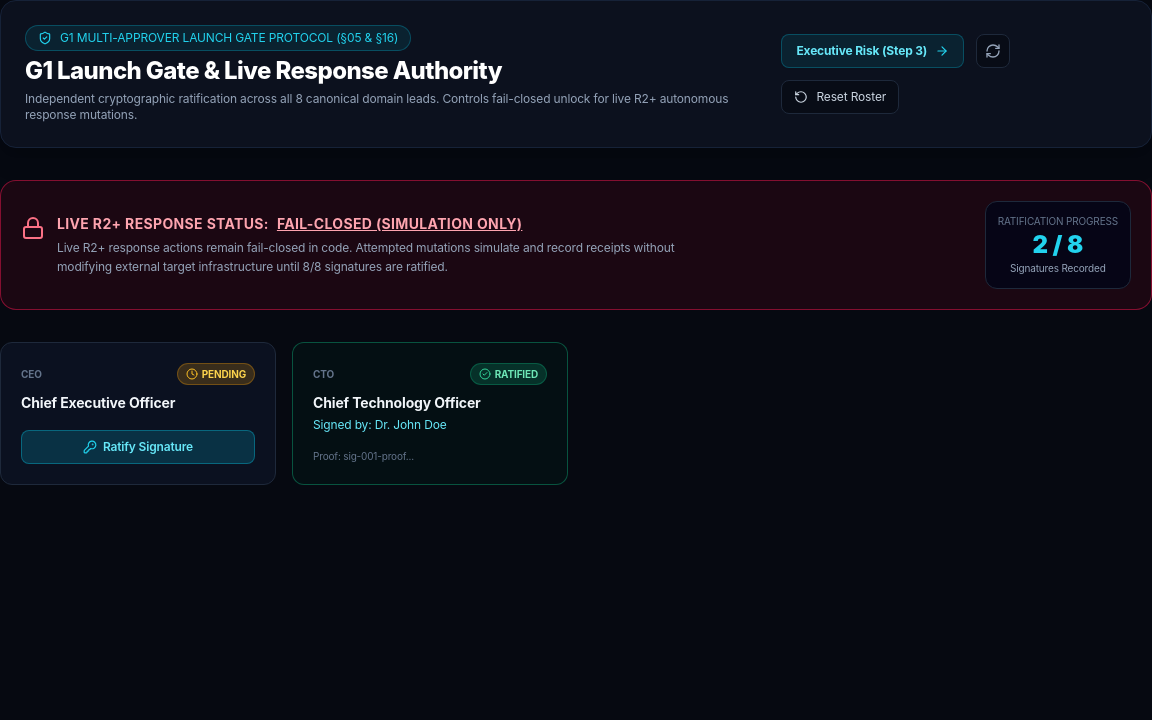
Critical-Path User Interaction & API Wire Validation Suite › 1. G1 Launch Gate Multi-Signature Submission (/admin/g1-gate) › renders ratification cards and opens signature modal on click
Expected: the heading "G1 Launch Gate & Live Response Authority" is shown, [25, 56, 502, 85]
Step 1. Click the button "Ratify Signature" → (138, 447), box [21, 430, 255, 464]
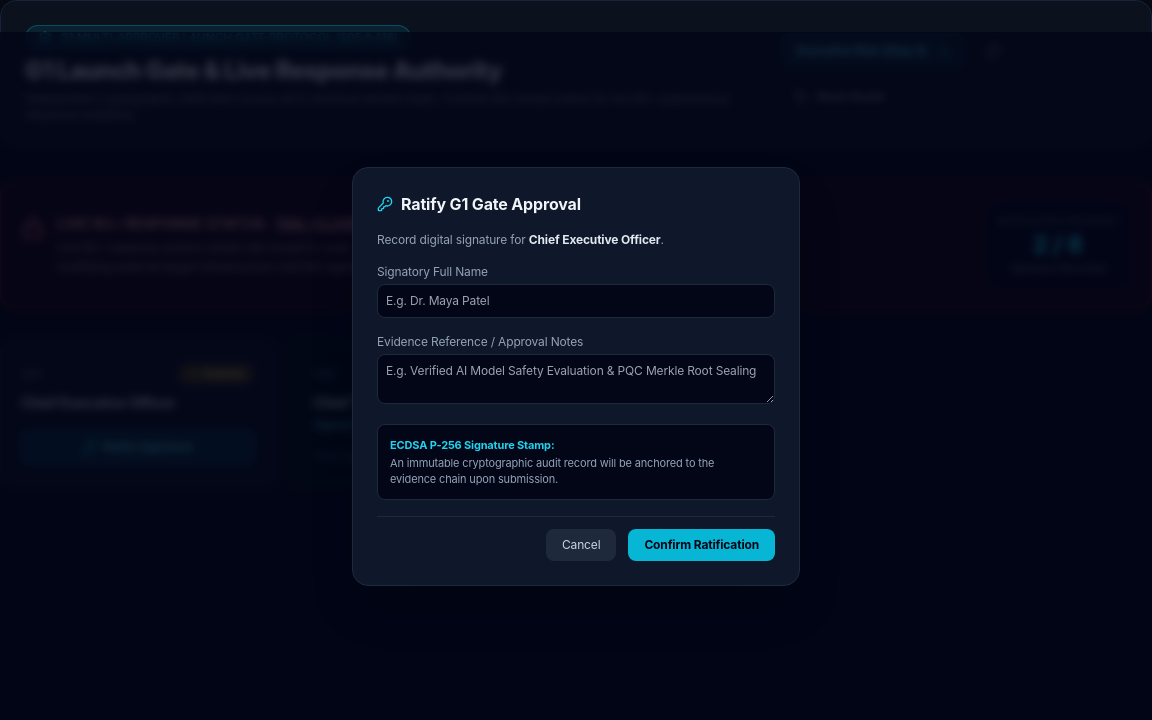
Expected: the heading "Ratify G1 Gate Approval" is shown, [377, 194, 581, 214]
